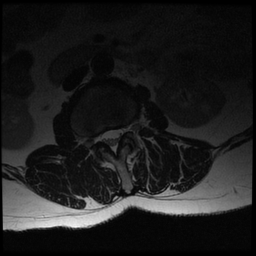CCS_normal: (109, 122, 118, 157)
LFS_stenosis: (124, 119, 130, 136)
LLS_normal: (118, 123, 125, 143)
RFS_stenosis: (93, 128, 101, 149)
RLS_normal: (101, 125, 108, 147)
